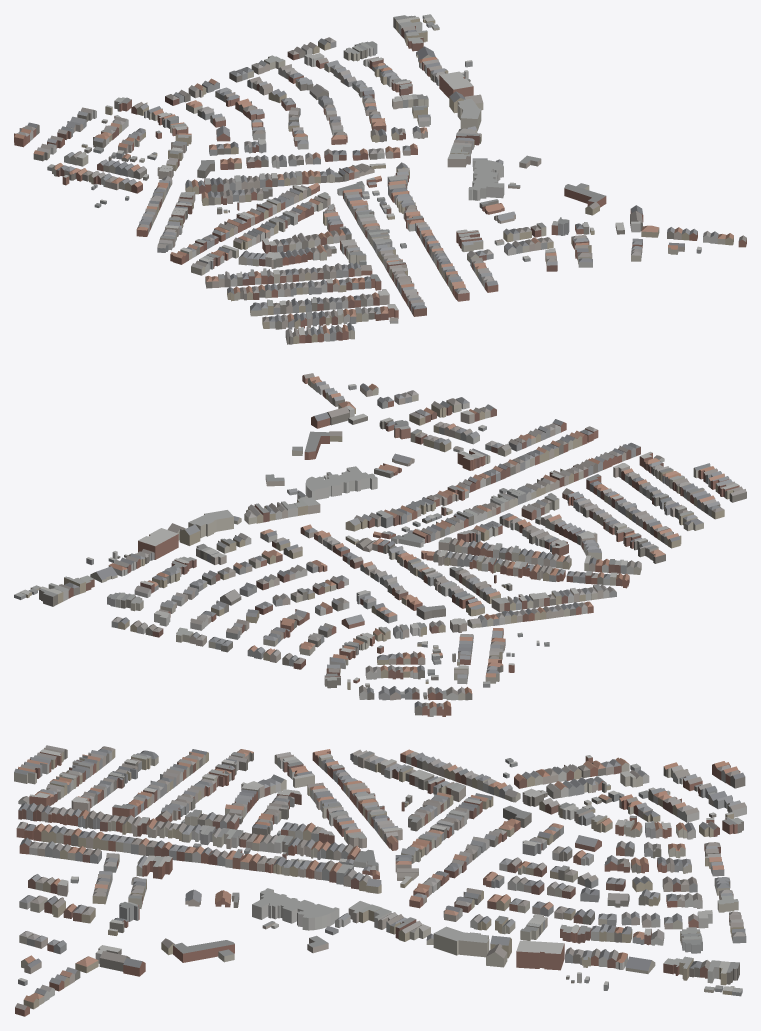
3 renders of one model, top to bottom at view 1: azimuth 30°, elevation 25°; view 2: azimuth 150°, elevation 25°; view 3: azimuth 270°, elevation 25°, orthographic. The views are drawn at different scales.
Visible parts, largest first — view 1: way/809415189, way/945110878, way/949736341, way/934747827; view 2: way/809415189, way/945110878, way/949736341; view 3: way/809415189, way/945110878, way/949736341, way/934747827.
Boxes of the visible parts, <box> form: way/809415189: <box>468,159,504,200</box>; way/945110878: <box>439,71,473,98</box>; way/949736341: <box>457,98,481,130</box>; way/934747827: <box>564,184,606,207</box>; way/809415189: <box>305,466,377,500</box>; way/945110878: <box>138,528,178,559</box>; way/949736341: <box>188,510,233,538</box>; way/809415189: <box>252,888,339,930</box>; way/945110878: <box>516,940,564,970</box>; way/949736341: <box>433,926,489,957</box>; way/934747827: <box>173,940,234,962</box>.
Bounding box in the file's own units: 432 × 31.2 × 510.
